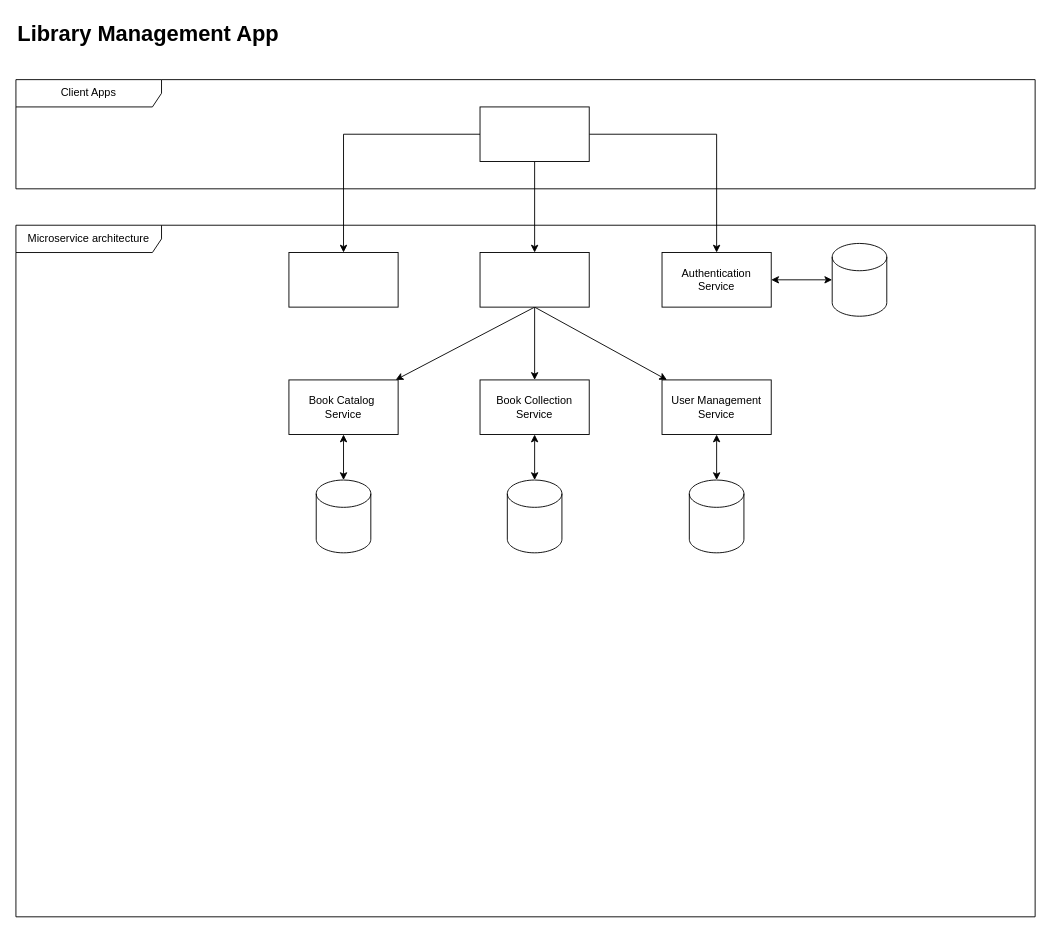
Some shapes in this 1051 by 933 pixel diagram are drawn without their labels. The shapes that lost their labels are listed below. From the top down, each one's box as (x1, y1, x2, y2) in pixels, then its label:
(479, 106, 589, 162): Web
(288, 252, 398, 307): Export Service
(479, 252, 589, 307): API Gateway
